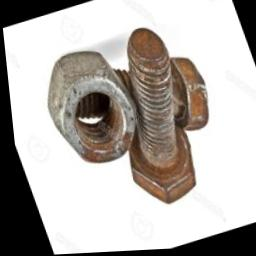Corroded-Bolt: (113, 28, 206, 205)
Non-corroded Nut: (45, 51, 134, 164)
